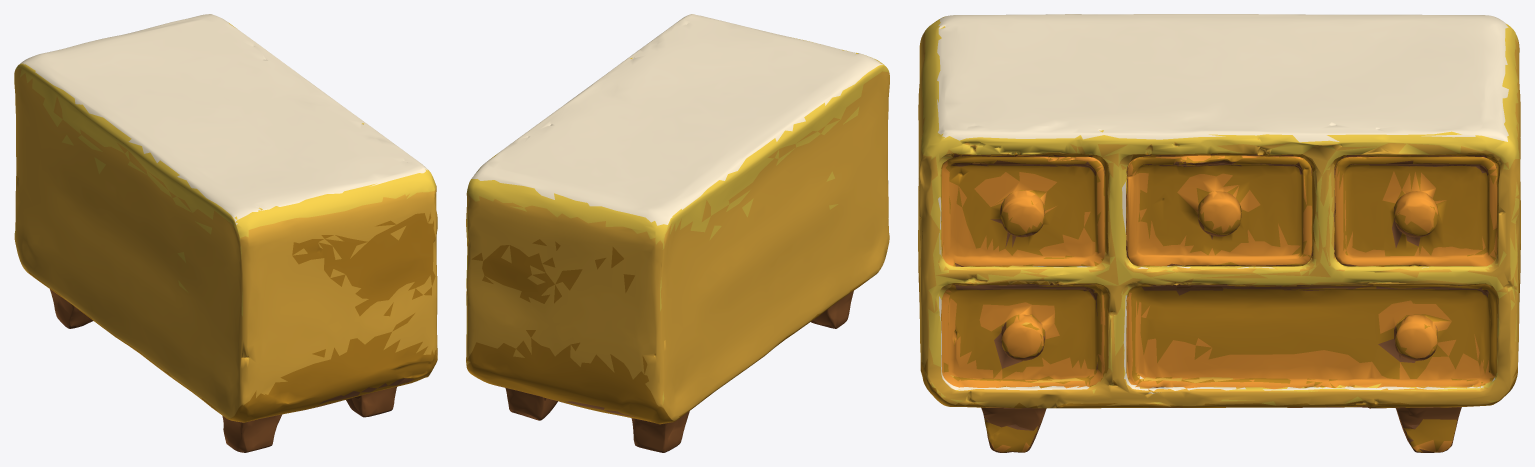
The model's file is SM_dresser_cream.glb.
The picture shows the model from 3 angles, left to right: view 1: azimuth 30°, elevation 25°; view 2: azimuth 150°, elevation 25°; view 3: azimuth 270°, elevation 25°; orthographic projection. The views are drawn at different scales.
Visible parts, largest first — view 1: SM_dresser_cream; view 2: SM_dresser_cream; view 3: SM_dresser_cream.
Part boxes in pixels (x1,y1,x2,y2): SM_dresser_cream: (14, 14, 437, 452); SM_dresser_cream: (466, 14, 889, 452); SM_dresser_cream: (918, 14, 1520, 452).
Bounding box in the file's own units: 0.8504 × 1 × 1.65.
Materials: 1 (1 with a texture image).
